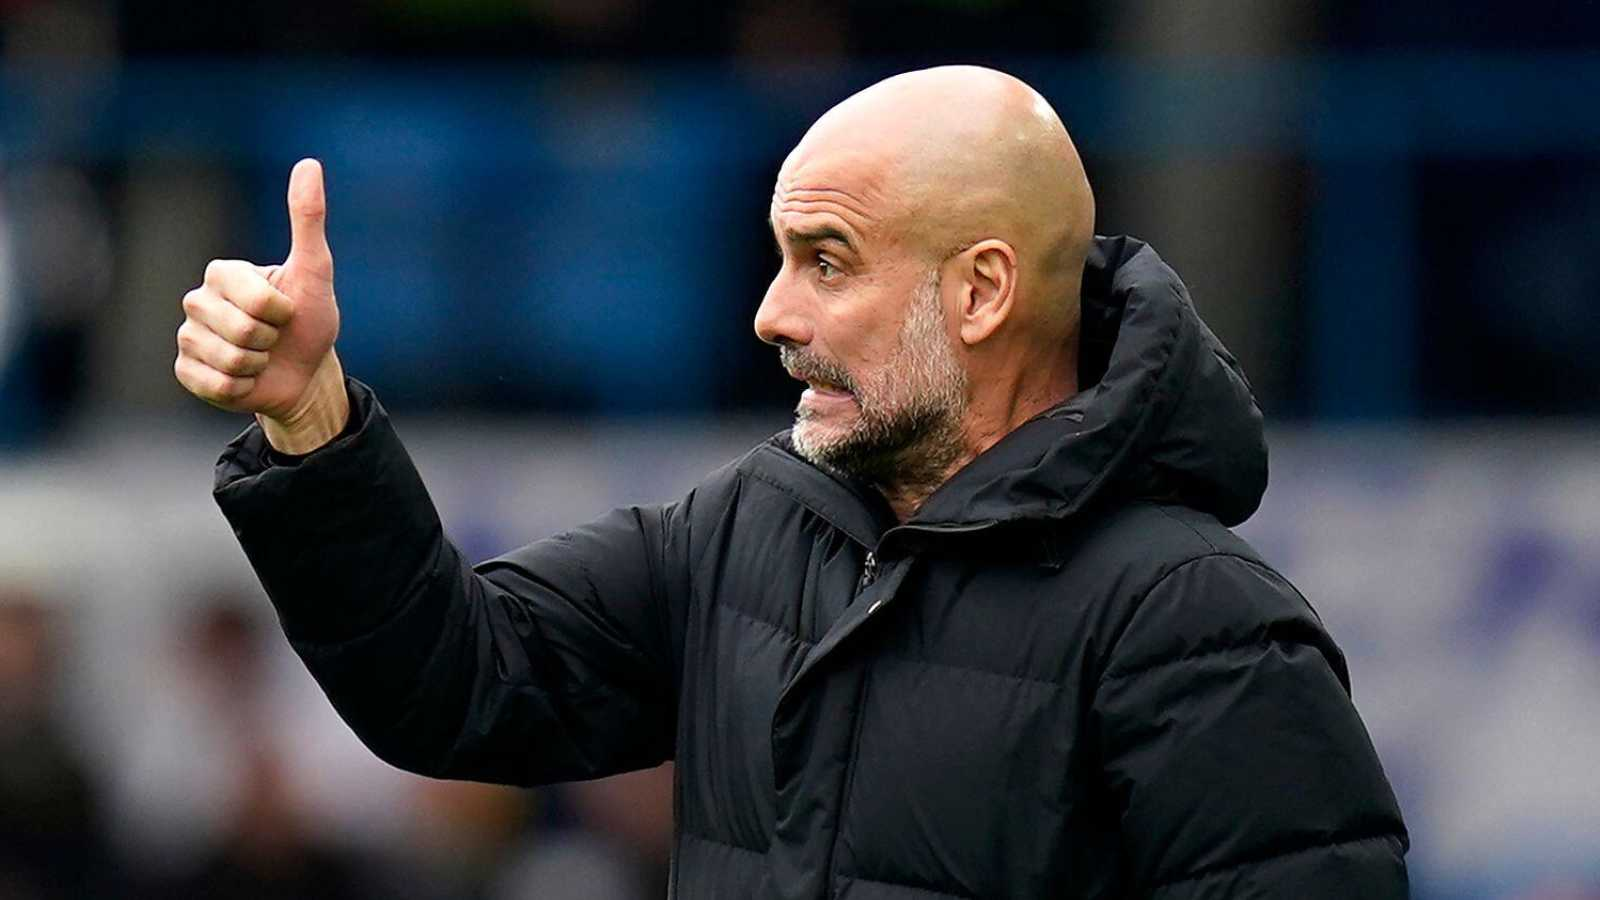thumbsUp: (151, 146, 362, 425)
